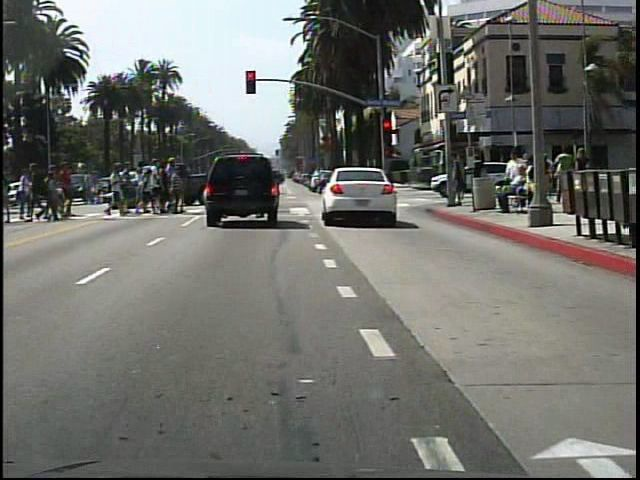person: (495, 163, 529, 216)
